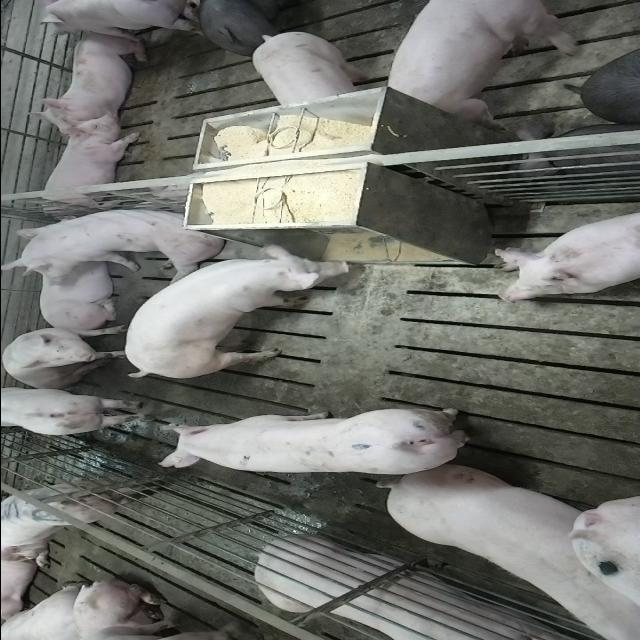Sitting: (4, 200, 230, 276), (0, 324, 126, 388)
Standing: (116, 248, 356, 382), (382, 1, 582, 123), (156, 407, 479, 477), (253, 28, 375, 106), (2, 476, 150, 534), (2, 384, 156, 438), (191, 0, 316, 54), (32, 0, 202, 36)
Sternal_lying: (249, 538, 579, 640), (490, 207, 640, 305), (34, 28, 148, 129), (26, 215, 125, 329), (30, 116, 140, 215)
